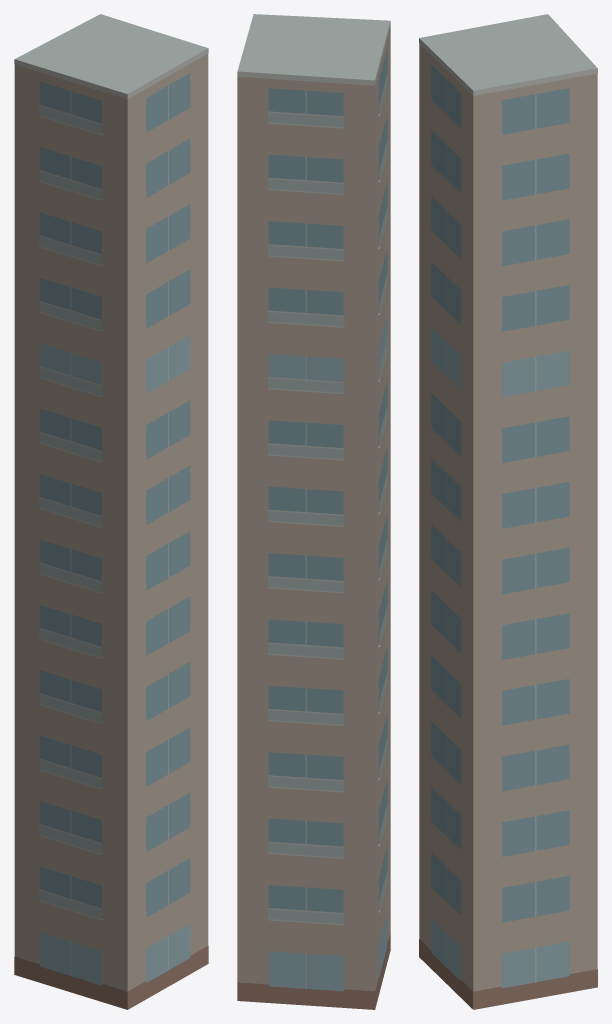
File: survey-upis-32833242.glb
The picture shows the model from 3 angles, left to right: view 1: azimuth 30°, elevation 25°; view 2: azimuth 150°, elevation 25°; view 3: azimuth 270°, elevation 25°; orthographic projection.
Parts seen in each view (by area): view 1: survey-upis-32833242.tmp; view 2: survey-upis-32833242.tmp; view 3: survey-upis-32833242.tmp.
Boxes of the visible parts, x1,y1,x2,y2 form: survey-upis-32833242.tmp: (14, 14, 208, 1009); survey-upis-32833242.tmp: (237, 14, 390, 1009); survey-upis-32833242.tmp: (419, 14, 597, 1009).
Size of the model in its own units: 7.66 by 42.7 by 7.53.
